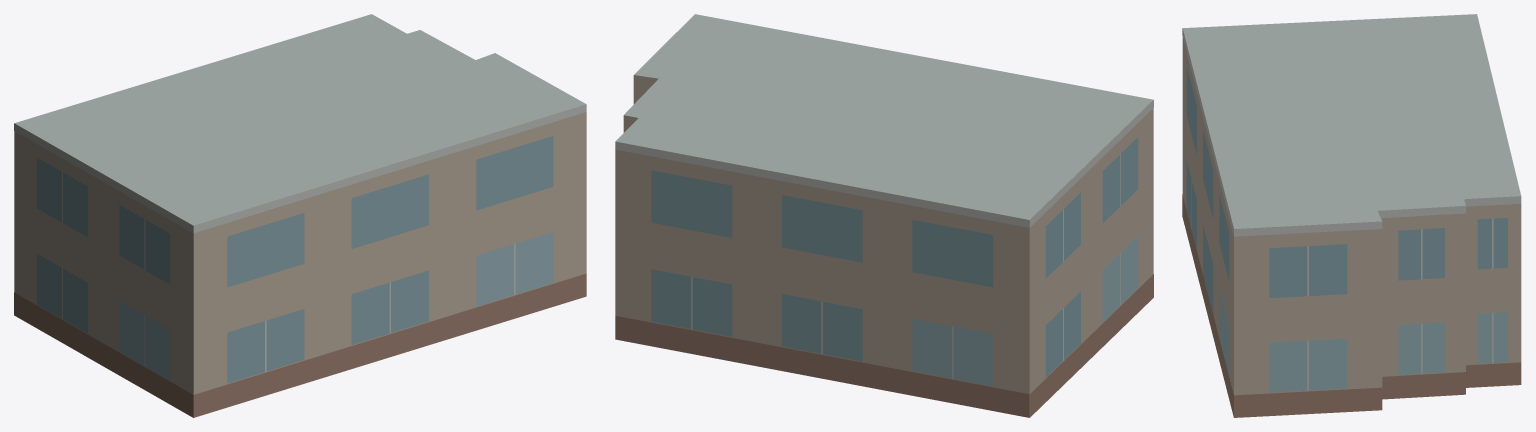
Rendered from survey-upis-32662732.glb.
3 renders of one model, left to right at view 1: azimuth 30°, elevation 25°; view 2: azimuth 150°, elevation 25°; view 3: azimuth 270°, elevation 25°, orthographic. The views are drawn at different scales.
Visible parts, largest first — view 1: survey-upis-32662732.tmp; view 2: survey-upis-32662732.tmp; view 3: survey-upis-32662732.tmp.
Boxes of the visible parts, left/top/right/bottom form: survey-upis-32662732.tmp: left=14, top=14, right=586, bottom=417; survey-upis-32662732.tmp: left=615, top=14, right=1153, bottom=417; survey-upis-32662732.tmp: left=1182, top=14, right=1521, bottom=417.
Size of the model in its own units: 14.92 by 6.1 by 9.93.
